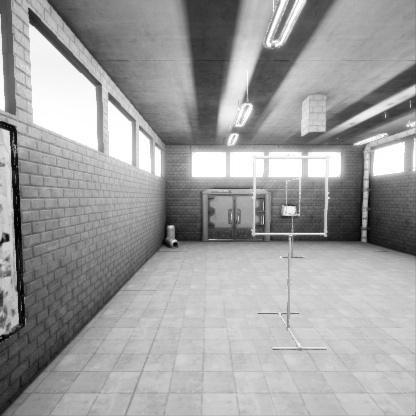gate: (254, 185, 331, 261), (286, 201, 301, 239)
